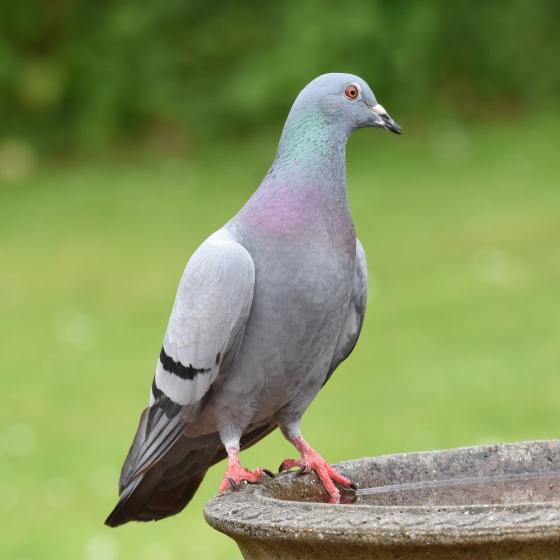Flying Rat: (112, 70, 401, 511)
